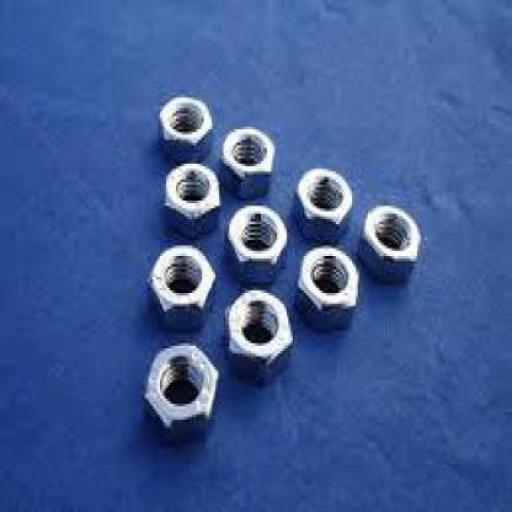Nut: (143, 343, 220, 438), (226, 288, 295, 379), (148, 244, 217, 333), (296, 245, 360, 329), (227, 203, 288, 283), (361, 203, 422, 282), (295, 166, 354, 241), (164, 162, 221, 238), (220, 126, 276, 197), (158, 94, 214, 160)
